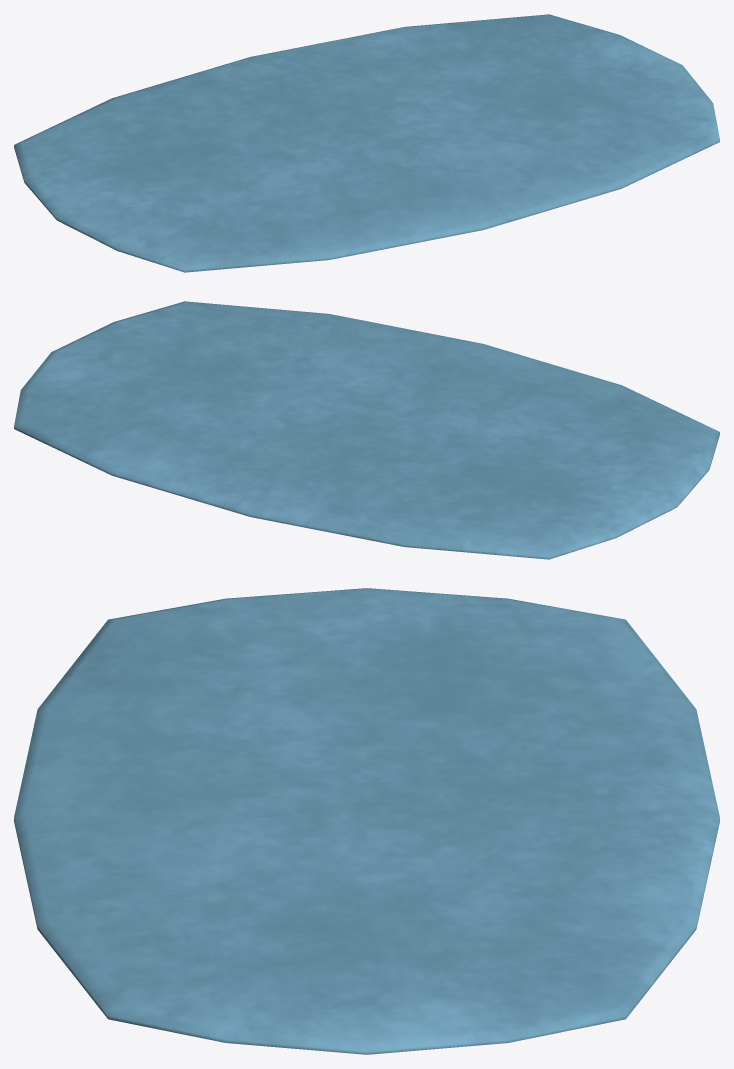
The model's file is bathroom rug.fbx.
3 renders of one model, top to bottom at view 1: azimuth 30°, elevation 25°; view 2: azimuth 150°, elevation 25°; view 3: azimuth 270°, elevation 25°, orthographic. The views are drawn at different scales.
Visible parts, largest first — view 1: polySurface555; view 2: polySurface555; view 3: polySurface555.
Part boxes in pixels (x1,y1,x2,y2): polySurface555: (14,14,719,272); polySurface555: (14,301,719,559); polySurface555: (14,588,719,1054).
Size of the model in its own units: 1.99 by 0.0352 by 1.28.
1 material, 1 textured.
